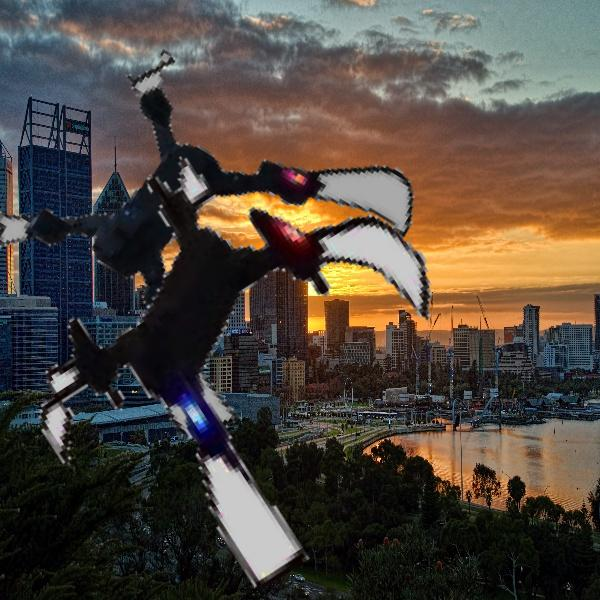drone: (20, 136, 452, 568), (8, 47, 385, 424)
